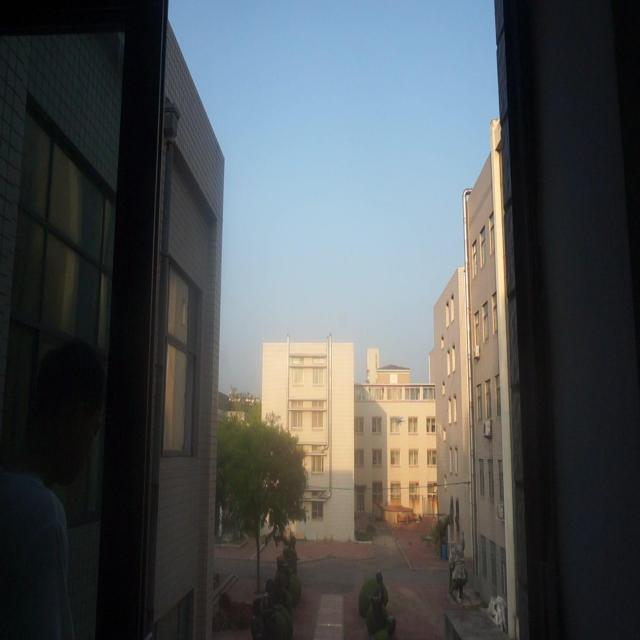UAV: (393, 415, 406, 427)
